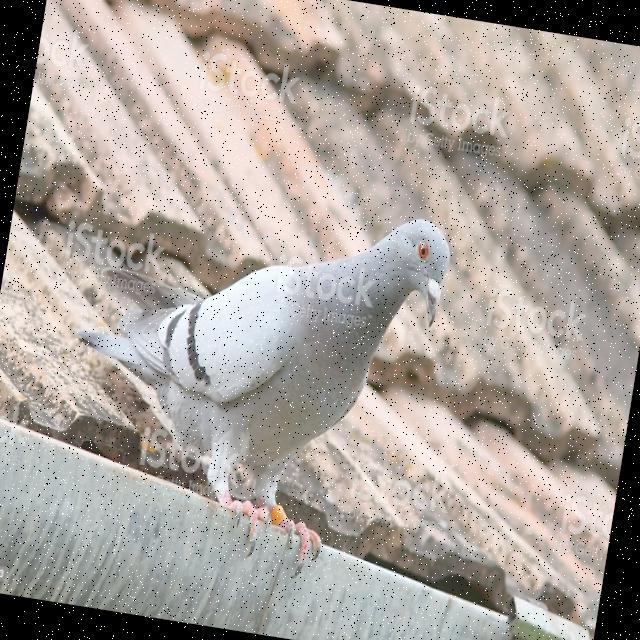bird: (41, 168, 456, 584)
